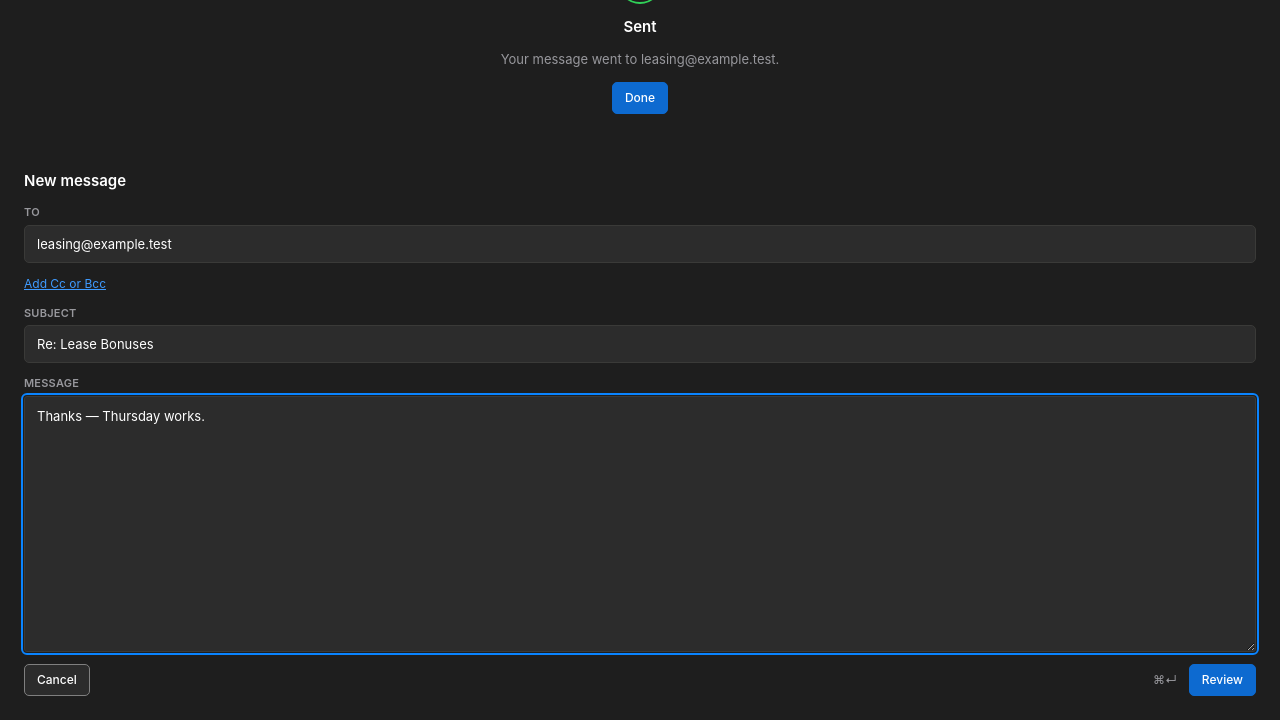
Test: nothing sends without the review step › goes back to editing with the message intact
The width and height of the screenshot is (1280, 720).
(page scrolled)
Click the button "Review" at x=1222, y=680, box [1189,664,1256,696]
(page scrolled)
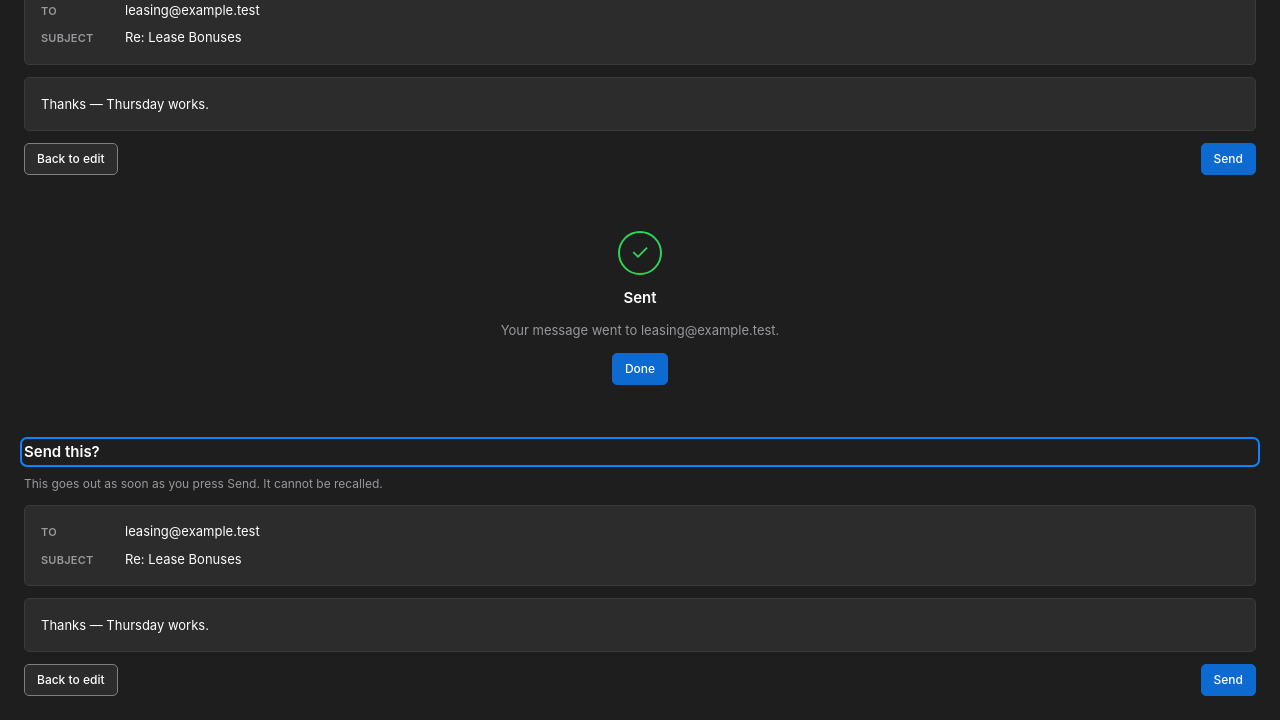
Click the 2nd button "Back to edit" at x=71, y=680, box [24,664,118,696]
(page scrolled)
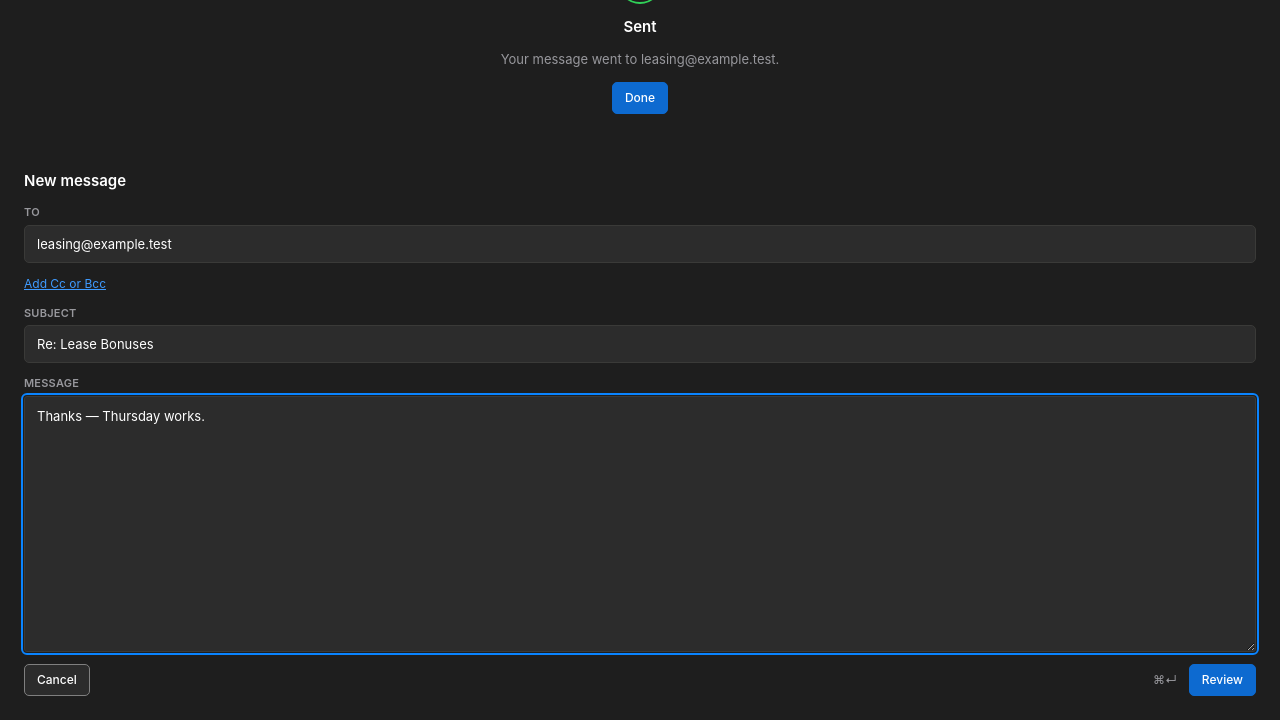
Now the text box labelled "Message" holds "Thanks — Thursday works.", box [24,396,1256,652]
